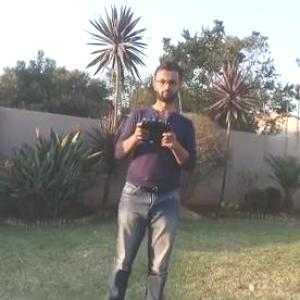follow: (100, 52, 202, 299)
